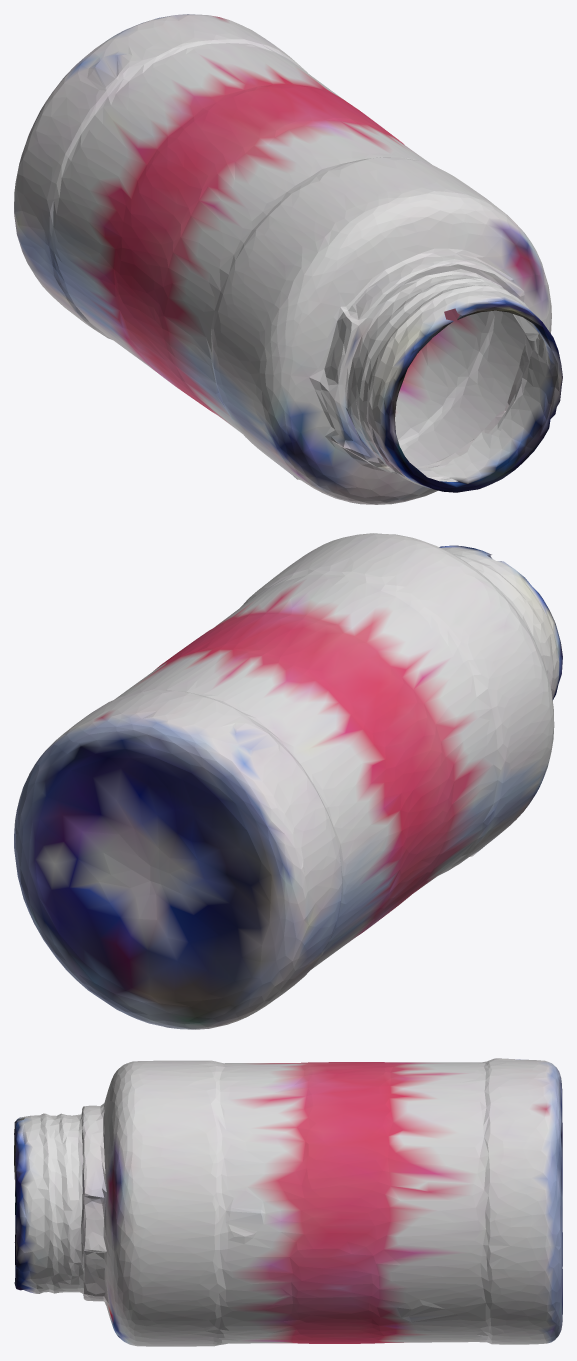
Rendered from scan.obj.
The picture shows the model from 3 angles, top to bottom: view 1: azimuth 30°, elevation 25°; view 2: azimuth 150°, elevation 25°; view 3: azimuth 270°, elevation 25°; orthographic projection. The views are drawn at different scales.
Visible parts, largest first — view 1: scan.ply; view 2: scan.ply; view 3: scan.ply.
Boxes of the visible parts, <box> form: scan.ply: <box>14,14,562,504</box>; scan.ply: <box>14,533,562,1029</box>; scan.ply: <box>14,1058,562,1346</box>.
Size of the model in its own units: 0.0624 by 0.0622 by 0.1195.
